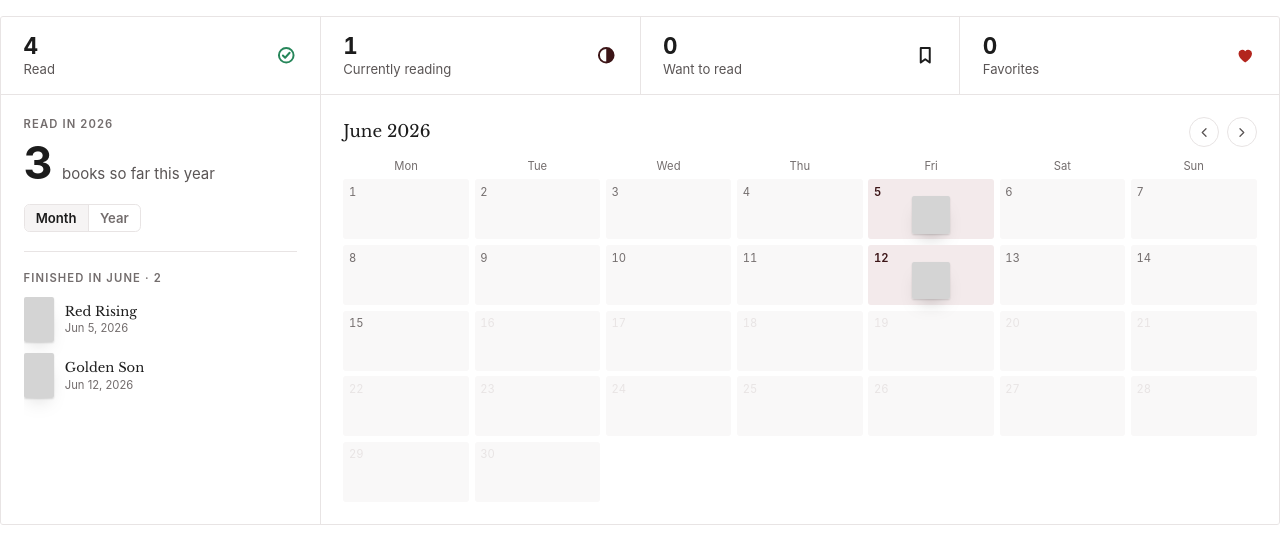
it: ReadingStats › should list the whole year in the year view
Click the button "Year": (114, 218) [89,205,140,231]
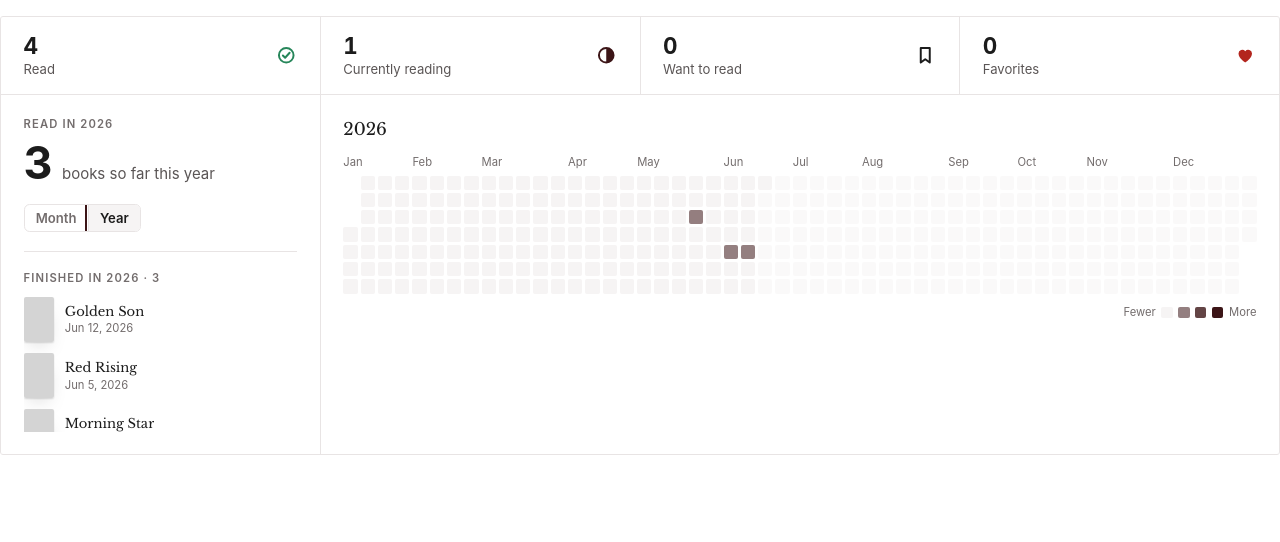
Check: the text "Finished in 2026 · 3" is shown, box [24,271,160,285]
